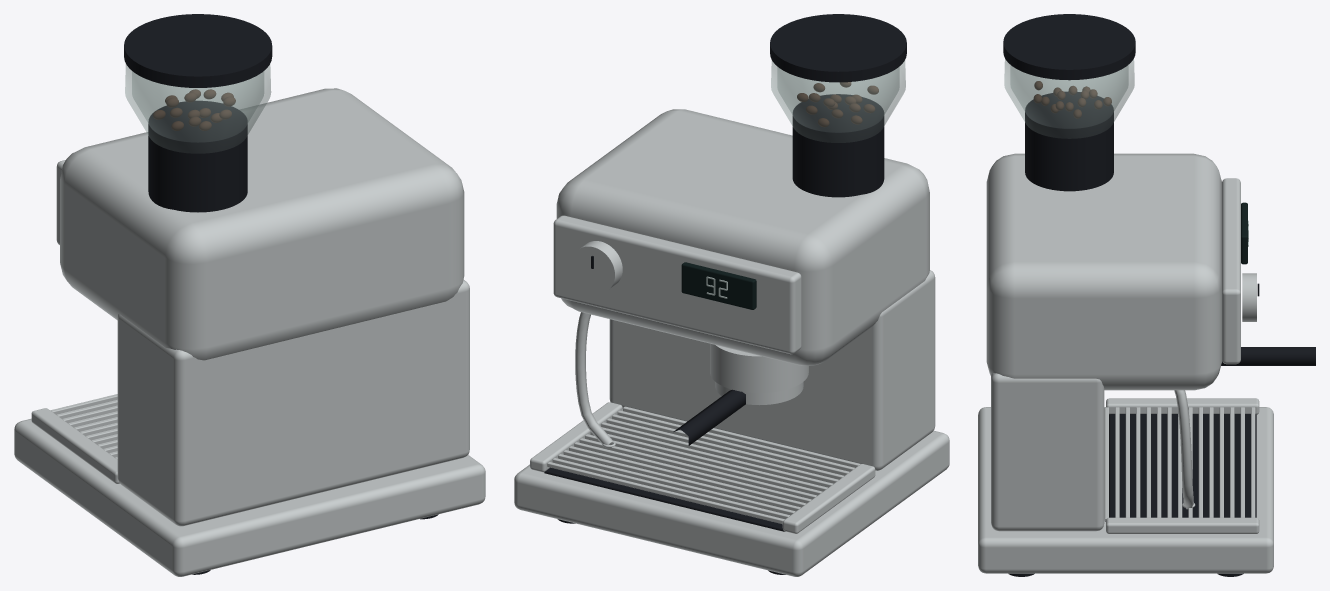
The model's file is kitchen-bean-espresso.glb.
The picture shows the model from 3 angles, left to right: view 1: azimuth 30°, elevation 25°; view 2: azimuth 150°, elevation 25°; view 3: azimuth 270°, elevation 25°; orthographic projection. The views are drawn at different scales.
Visible parts, largest first — view 1: steel_surfaces, dark_surfaces, glass_surfaces; view 2: steel_surfaces, dark_surfaces, glass_surfaces; view 3: steel_surfaces, dark_surfaces, glass_surfaces.
Part boxes in pixels (x1,y1,x2,y2): steel_surfaces: (14,88,485,576); dark_surfaces: (124,14,438,574); glass_surfaces: (125,64,271,153); steel_surfaces: (514,109,949,576); dark_surfaces: (544,14,906,574); glass_surfaces: (771,60,905,142); steel_surfaces: (978,153,1273,573); dark_surfaces: (1003,14,1315,576); glass_surfaces: (1004,59,1134,138).
Bounding box in the file's own units: 0.37 × 0.5605 × 0.388.
3 materials, 2 textured.
